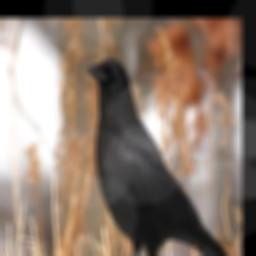Crow: (84, 52, 237, 256)
